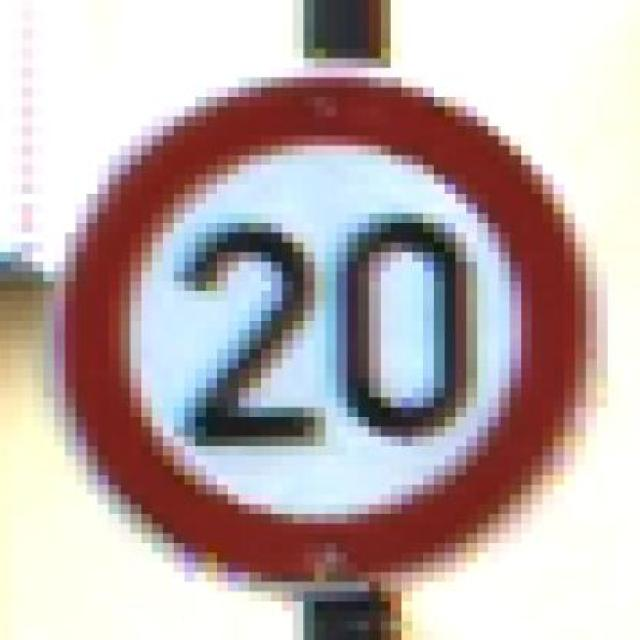Speed Limit 20 KMPh: (10, 68, 608, 602)
